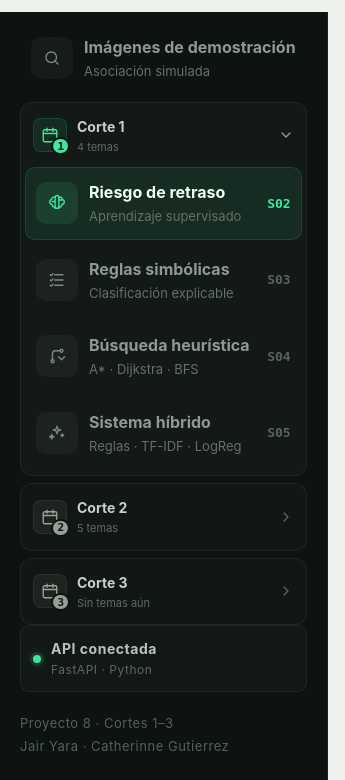
Test: Navbar › agrupa los temas por corte e incorpora Semana 7 en Corte 2
The width and height of the screenshot is (345, 780).
(page scrolled)
Expected: the number of icons with class "nav-cut-icon" is 3, x1=33 y1=118 x2=67 y2=152; x1=33 y1=500 x2=67 y2=534; x1=33 y1=574 x2=67 y2=608
Expected: the element named "Temas del Corte 1" is shown, x1=25 y1=167 x2=302 y2=469
Click the button "2 Corte 2 5 temas" at (50, 517), box x1=25 y1=488 x2=302 y2=546
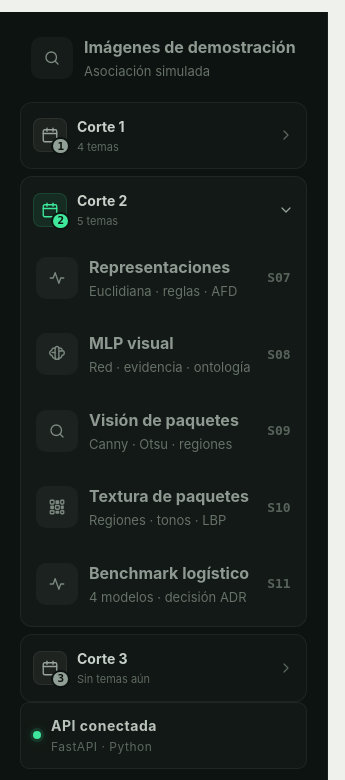
Now the button "2 Corte 2 5 temas" is expanded, box x1=25 y1=181 x2=302 y2=238
Now the button "1 Corte 1 4 temas" is collapsed, box x1=25 y1=106 x2=302 y2=164
Now the button with aria-label "Semana 7: Representaciones" is shown, box x1=25 y1=242 x2=302 y2=314
